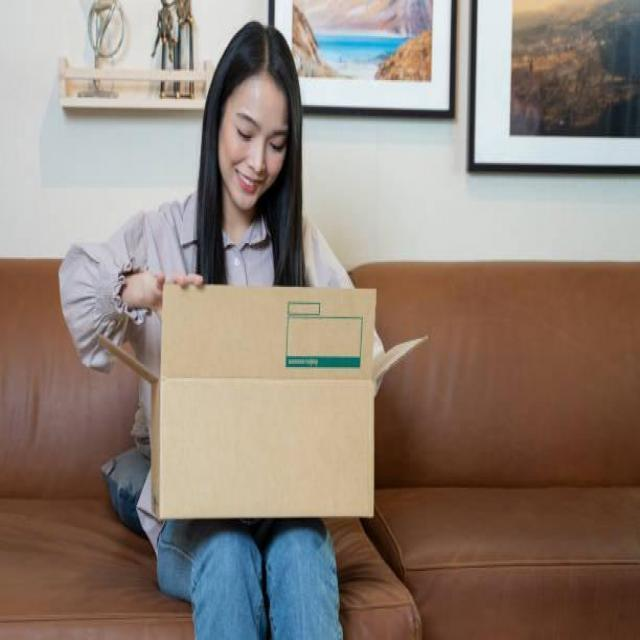box: (106, 285, 417, 527)
